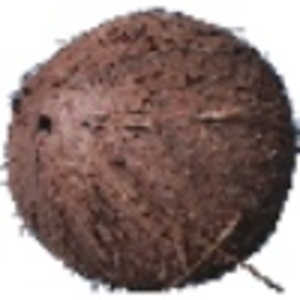coco: (1, 9, 300, 293)
